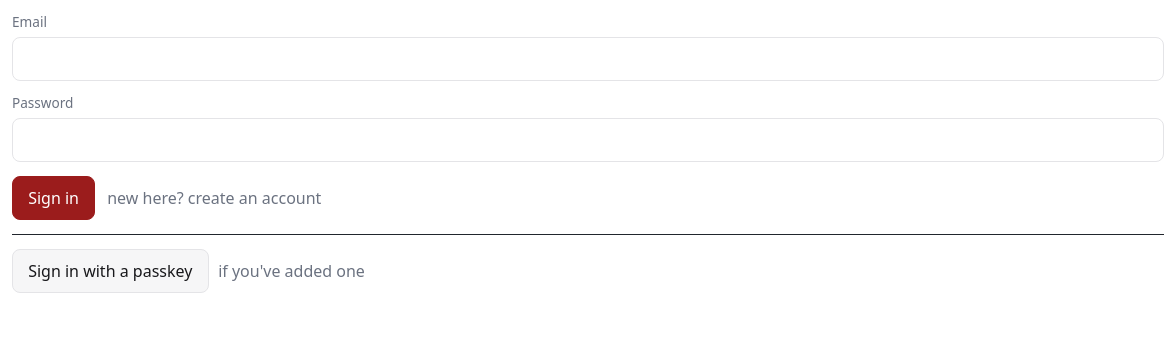
Test: AuthForm › surfaces the server error and does NOT navigate on failure
Type "a@b.com" into the field labelled "Email" at (588, 59), box left=12, top=37, right=1164, bottom=81
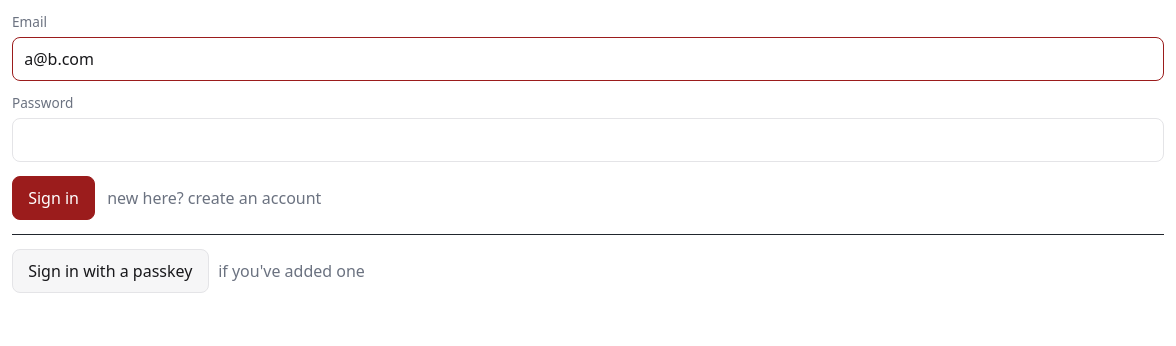
Type "wrong" into the password field labelled "Password" at (588, 140), box left=12, top=118, right=1164, bottom=162
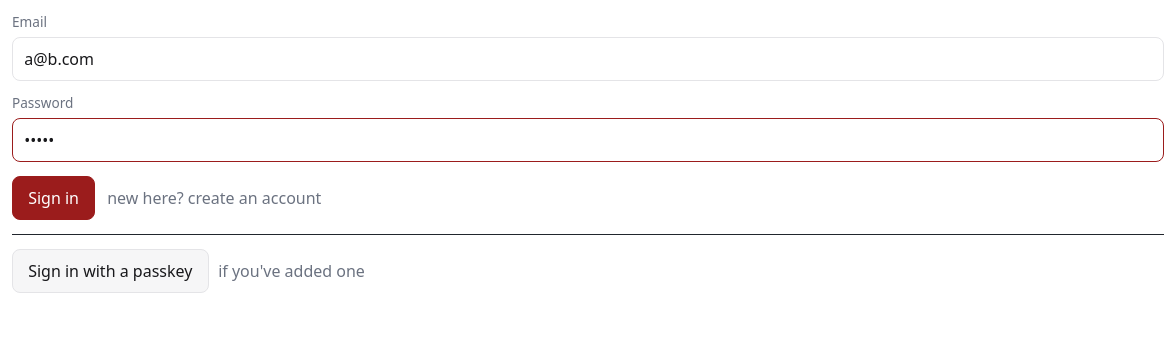
Click the button "Sign in" at (54, 198), box left=12, top=176, right=95, bottom=220
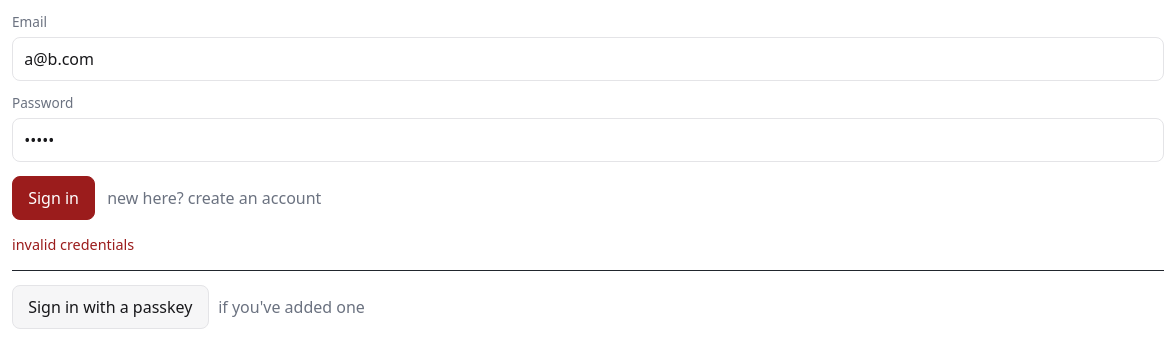
Expected: the text "invalid credentials" is shown, left=12, top=235, right=134, bottom=254
